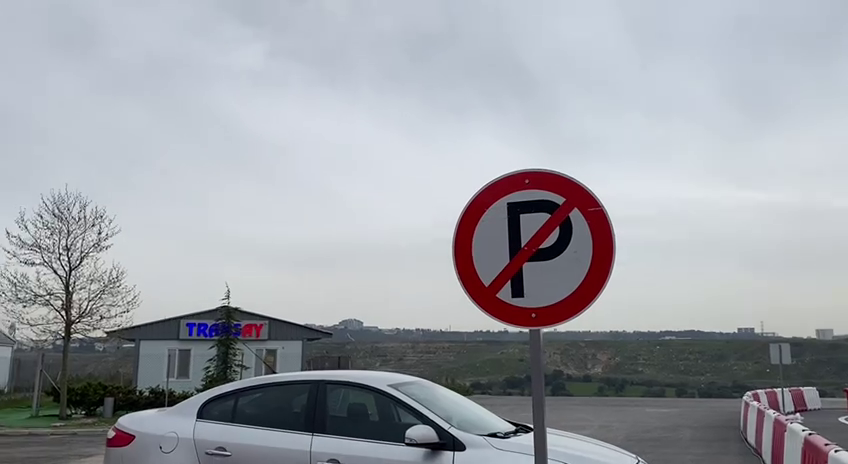noparking: (447, 163, 621, 334)
